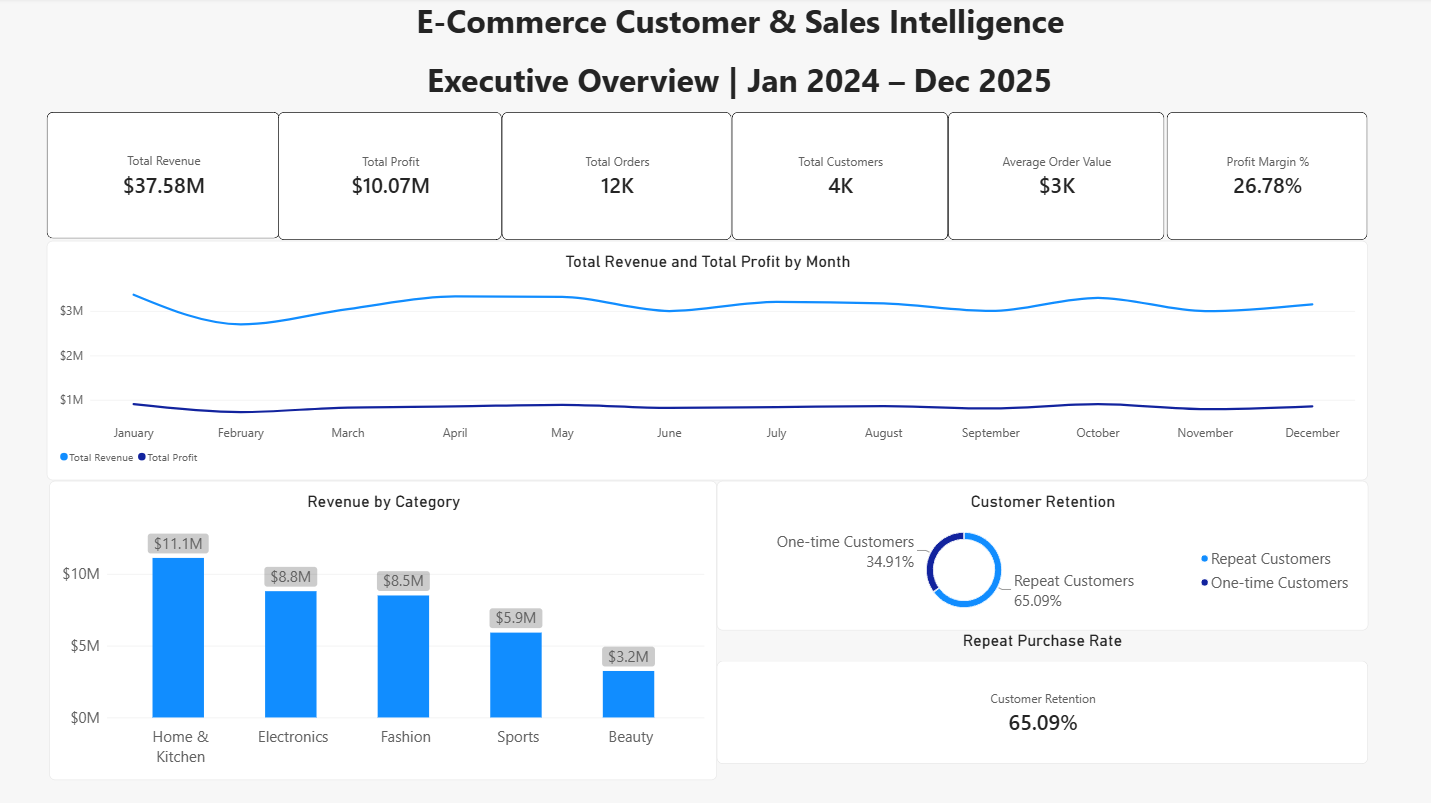

The dashboard page shown, as its layout file describes it:
{"tool":"powerbi","page":{"name":"Executive Overview","canvas":[1920,1080],"ordinal":0},"visuals":[{"type":"cardVisual","fields":{"Data":["orders.Total Revenue"]},"box":[64.7,153.6,311.3,169.8],"z":0},{"type":"cardVisual","fields":{"Data":["orders.Total Profit"]},"box":[374,153.6,299.2,171.8],"z":1000},{"type":"cardVisual","fields":{"Data":["orders.Total Orders"]},"box":[673.2,153.6,307.3,171.8],"z":2000},{"type":"cardVisual","fields":{"Data":["orders.Average Order Value"]},"box":[1269.5,153.6,289.1,171.8],"z":3000},{"type":"cardVisual","fields":{"Data":["orders.Profit Margin %"]},"box":[1560.6,153.6,268.9,171.8],"z":4000},{"type":"cardVisual","fields":{"Data":["orders.Total Customers"]},"box":[980.4,153.6,289.1,171.8],"z":5000},{"type":"lineChart","fields":{"Category":["orders.order_date.Variation.Date Hierarchy.Year","orders.order_date.Variation.Date Hierarchy.Month"],"Y":["orders.Total Revenue","orders.Total Profit"]},"box":[65,325,1765,320],"z":6000},{"type":"clusteredColumnChart","title":"Revenue by Category","fields":{"Category":["products.category"],"Y":["orders.Total Revenue"]},"box":[68,646,892,400],"z":7000},{"type":"donutChart","title":"Customer Retention","fields":{"Category":["Customer Type.Customer Type"],"Y":["Customer Type.Customer Type Count"]},"box":[960,646,870,200],"z":8000},{"type":"cardVisual","title":"Repeat Purchase Rate","fields":{"Data":["orders.Repeat Purchase Rate %"]},"box":[960,846,870,178],"z":9000},{"type":"textbox","box":[488,2,1008,78],"z":10000},{"type":"textbox","box":[520,80,942.5,75],"z":11000}]}

Visuals, with their boxes in screenshot pixels (x1, y1, x2, y2), scaled from the page's 1920x1080 canvas onto the 1431x803 screenshot:
cardVisual - orders.Total Revenue: locate(48, 114, 280, 240)
cardVisual - orders.Total Profit: locate(279, 114, 502, 242)
cardVisual - orders.Total Orders: locate(502, 114, 731, 242)
cardVisual - orders.Average Order Value: locate(946, 114, 1162, 242)
cardVisual - orders.Profit Margin %: locate(1163, 114, 1364, 242)
cardVisual - orders.Total Customers: locate(731, 114, 946, 242)
lineChart - orders.order_date.Variation.Date Hierarchy.Year x orders.order_date.Variation.Date Hierarchy.Month: locate(48, 242, 1364, 480)
"Revenue by Category" clusteredColumnChart: locate(51, 480, 716, 778)
"Customer Retention" donutChart: locate(716, 480, 1364, 629)
"Repeat Purchase Rate" cardVisual: locate(716, 629, 1364, 761)
textbox: locate(364, 1, 1115, 59)
textbox: locate(388, 59, 1090, 115)
